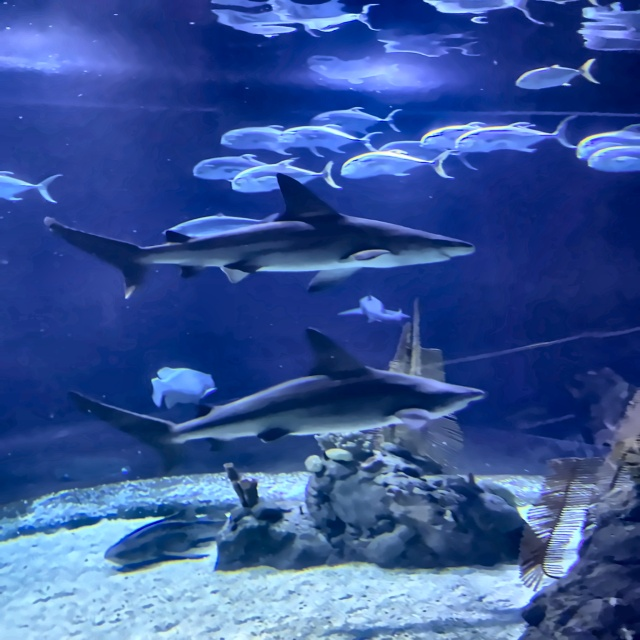fish: (103, 506, 231, 569), (456, 114, 578, 154), (231, 158, 342, 194), (340, 148, 458, 179), (356, 192, 433, 237), (281, 124, 382, 157), (151, 367, 218, 411), (310, 108, 404, 134), (162, 212, 260, 236), (576, 125, 639, 161), (221, 125, 292, 156), (420, 121, 486, 154), (516, 64, 599, 89), (0, 171, 62, 204), (193, 155, 268, 182), (588, 145, 639, 172)
shark: (68, 326, 485, 477), (45, 171, 477, 302), (337, 288, 408, 326)
